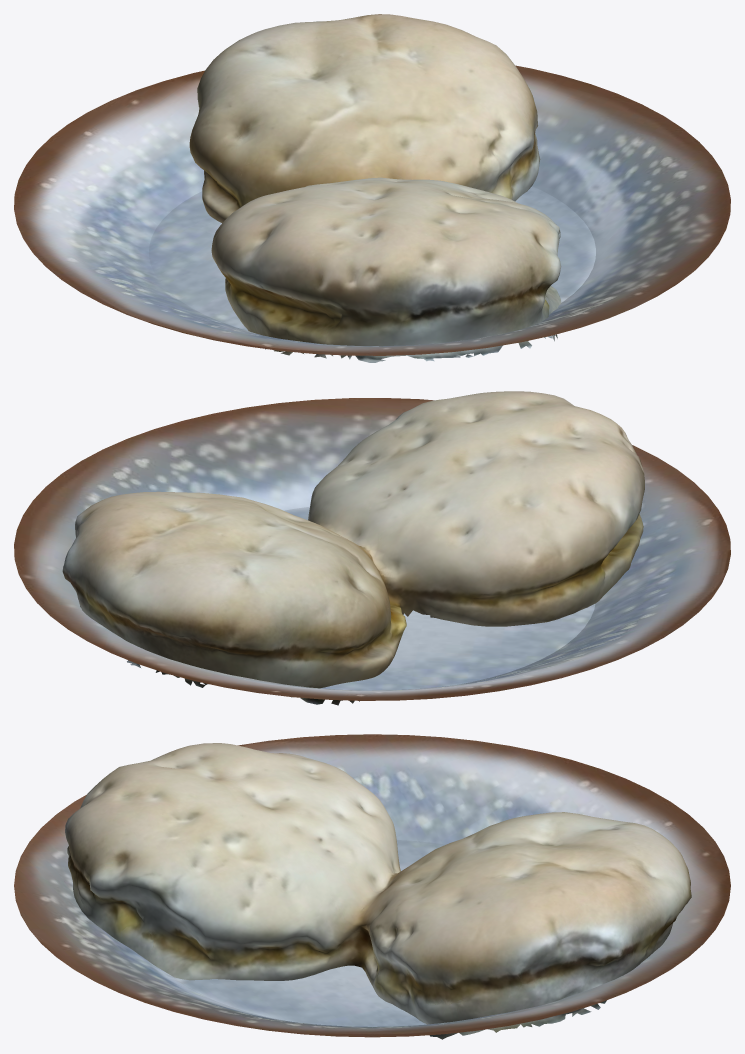
Rendered from PanConHuevo.glb.
The picture shows the model from 3 angles, top to bottom: view 1: azimuth 30°, elevation 25°; view 2: azimuth 150°, elevation 25°; view 3: azimuth 270°, elevation 25°; orthographic projection.
Visible parts, largest first — view 1: 3DModel, Circle; view 2: 3DModel, Circle; view 3: 3DModel, Circle.
Boxes of the visible parts, box(x1,y1,x2,y2) form: 3DModel: box(189, 14, 561, 362); Circle: box(14, 65, 730, 355); 3DModel: box(62, 391, 644, 705); Circle: box(14, 398, 730, 700); 3DModel: box(65, 743, 691, 1039); Circle: box(14, 734, 730, 1037).
Bounding box in the file's own units: 0.5494 × 0.1299 × 0.5494.
Materials: 2 (2 with a texture image).
